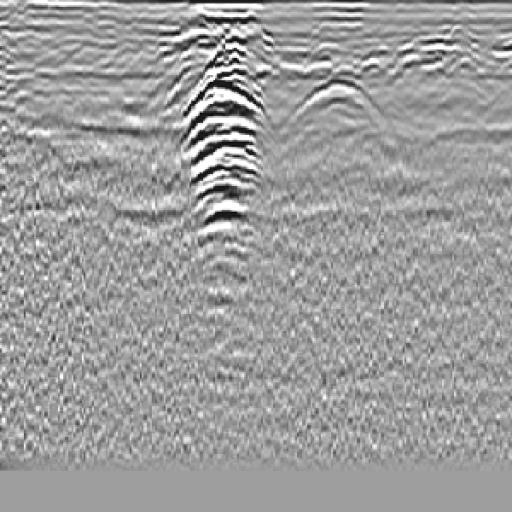metalic: (140, 20, 301, 291)
nonmetalic: (275, 65, 405, 182)
